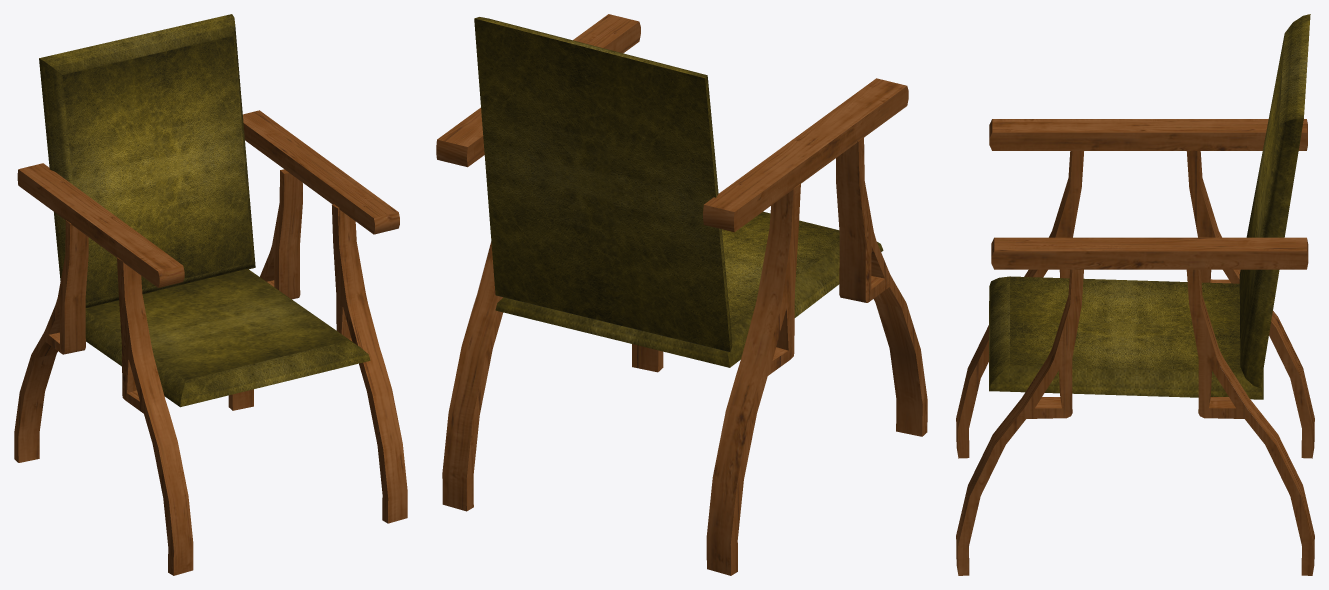
The model's file is Chair.fbx.
3 views of the same model, side by side, from view 1: azimuth 30°, elevation 25°; view 2: azimuth 150°, elevation 25°; view 3: azimuth 270°, elevation 25° (orthographic). The views are drawn at different scales.
Parts seen in each view (by area): view 1: Leather, Wooden_parts; view 2: Leather, Wooden_parts; view 3: Wooden_parts, Leather.
Part boxes in pixels (x1,y1,x2,y2): Leather: [39, 14, 370, 407]; Wooden_parts: [14, 110, 407, 575]; Leather: [474, 17, 883, 367]; Wooden_parts: [436, 14, 927, 575]; Wooden_parts: [956, 119, 1314, 575]; Leather: [989, 14, 1310, 399].
Bounding box in the file's own units: 0.4683 × 0.7316 × 0.5336.
Materials: 2 (2 with a texture image).
